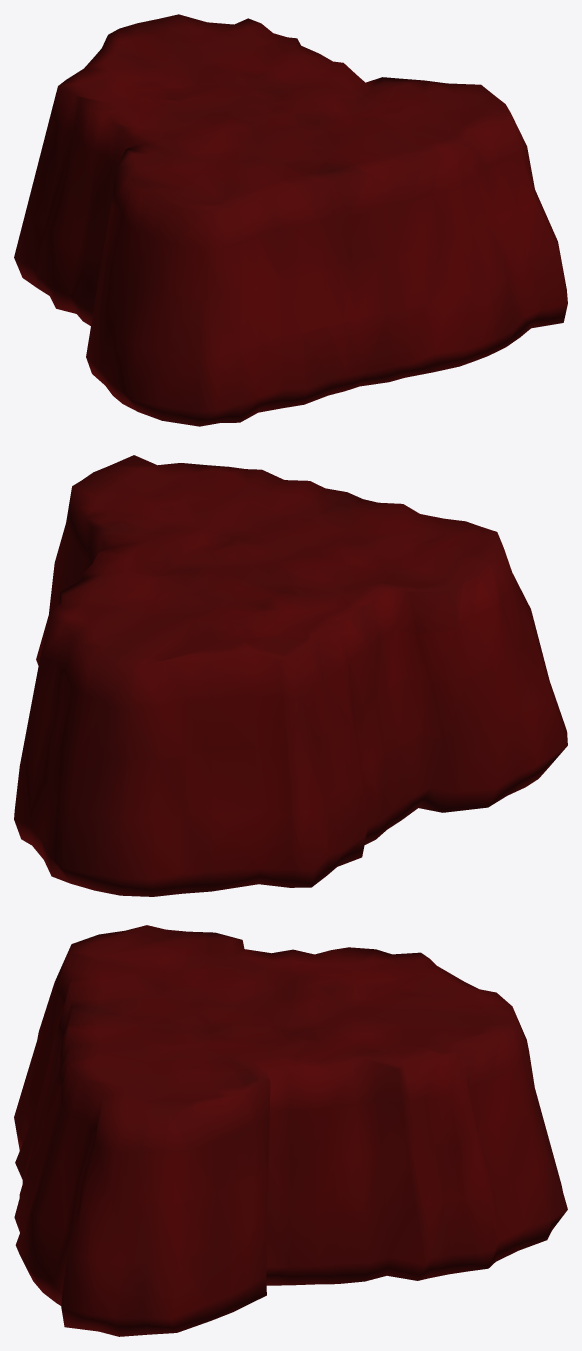
File: geology-landforms-rockplateautiny_v3.fbx
The picture shows the model from 3 angles, top to bottom: view 1: azimuth 30°, elevation 25°; view 2: azimuth 150°, elevation 25°; view 3: azimuth 270°, elevation 25°; orthographic projection. The views are drawn at different scales.
Visible parts, largest first — view 1: RockPlateauTiny_v3; view 2: RockPlateauTiny_v3; view 3: RockPlateauTiny_v3.
Part boxes in pixels (box(x1,y1,x2,y2)): RockPlateauTiny_v3: box(14, 14, 567, 426); RockPlateauTiny_v3: box(14, 455, 567, 896); RockPlateauTiny_v3: box(14, 925, 567, 1336).
Size of the model in its own units: 52.19 by 22.09 by 53.53.
